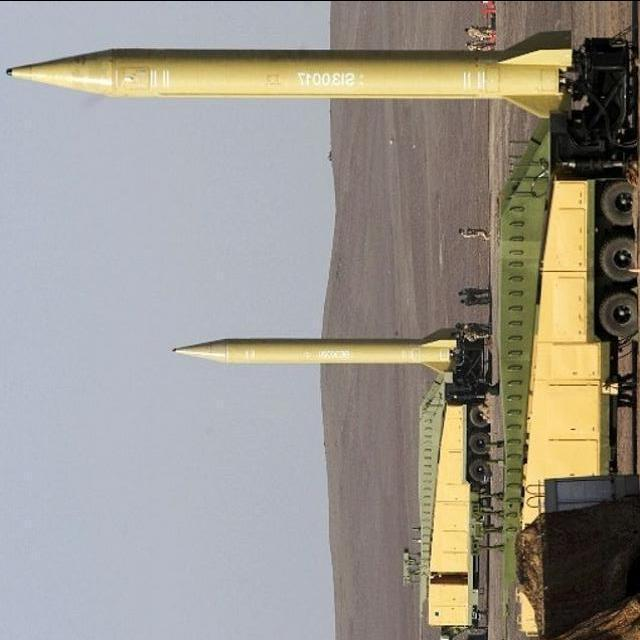missile: (7, 38, 576, 123), (172, 327, 456, 376)
